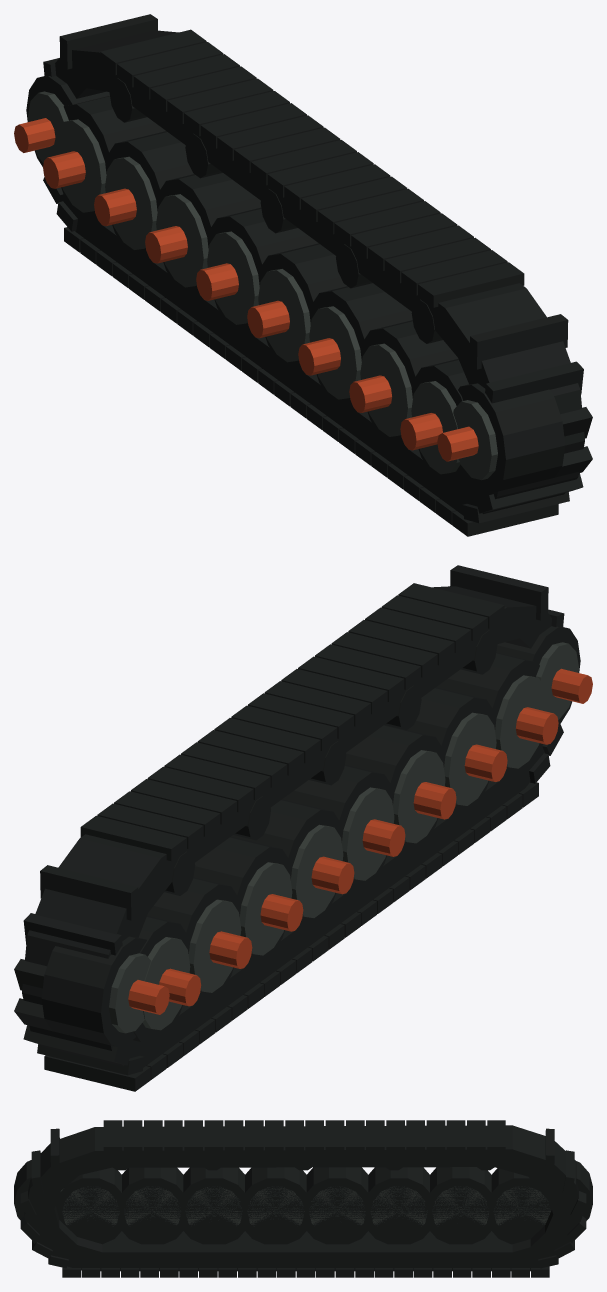
Rendered from Bastion_HT77_LeftTrack.obj.
The picture shows the model from 3 angles, top to bottom: view 1: azimuth 30°, elevation 25°; view 2: azimuth 150°, elevation 25°; view 3: azimuth 270°, elevation 25°; orthographic projection. The views are drawn at different scales.
Visible parts, largest first — view 1: Bastion_HT77_LeftTrack; view 2: Bastion_HT77_LeftTrack; view 3: Bastion_HT77_LeftTrack.
Part boxes in pixels (bbox=[...]): Bastion_HT77_LeftTrack: bbox=[14, 14, 592, 536]; Bastion_HT77_LeftTrack: bbox=[14, 565, 592, 1091]; Bastion_HT77_LeftTrack: bbox=[14, 1120, 592, 1277].
Size of the model in its own units: 1.08 by 1.77 by 7.14.
Materials: 1 (1 with a texture image).
